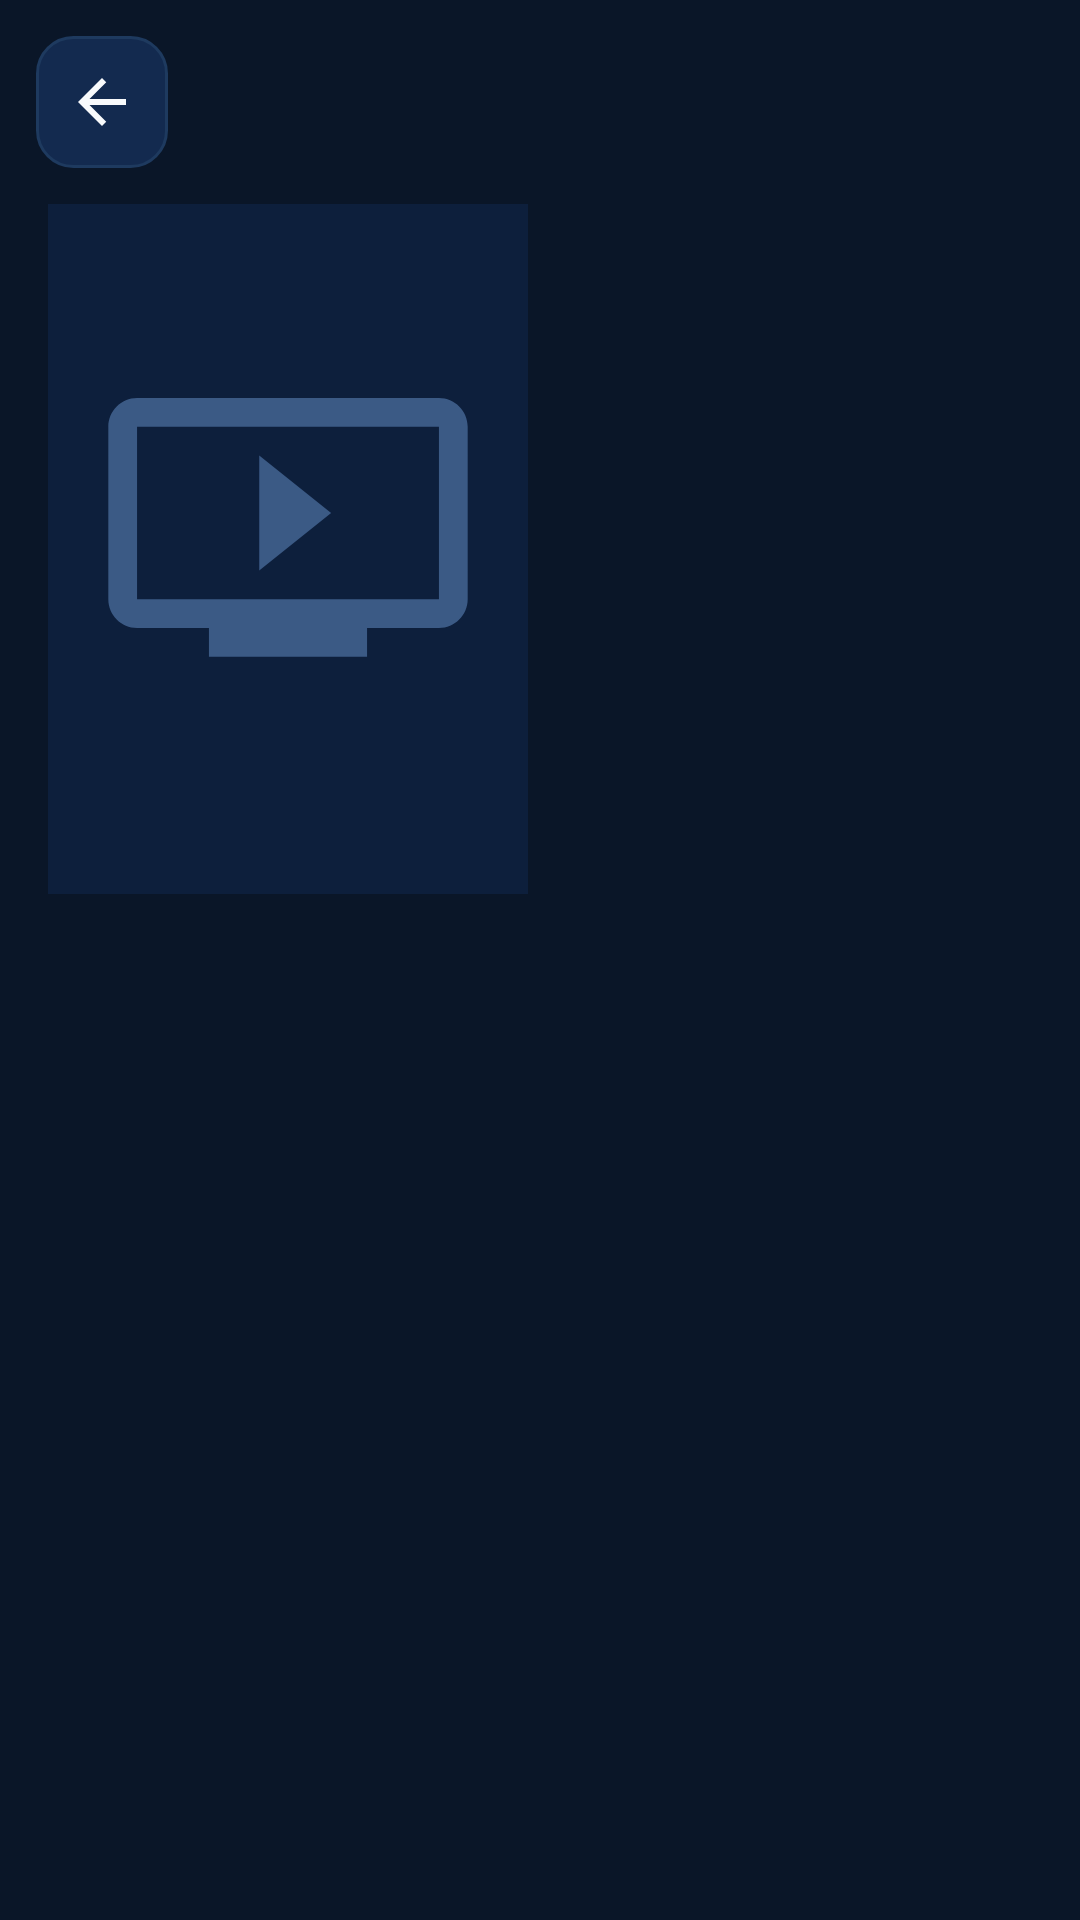

Screen size 1080×1920. Icon name, then its center in pixels as (x,y):
Back: (102,102)
